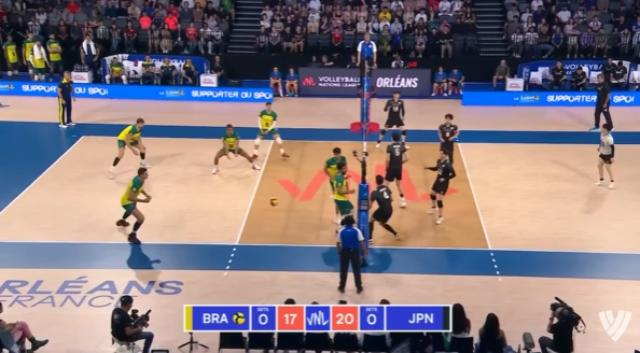Levantador: (427, 100, 469, 162), (329, 160, 356, 222)
Libero: (590, 118, 626, 194)
bola: (261, 190, 285, 218)
